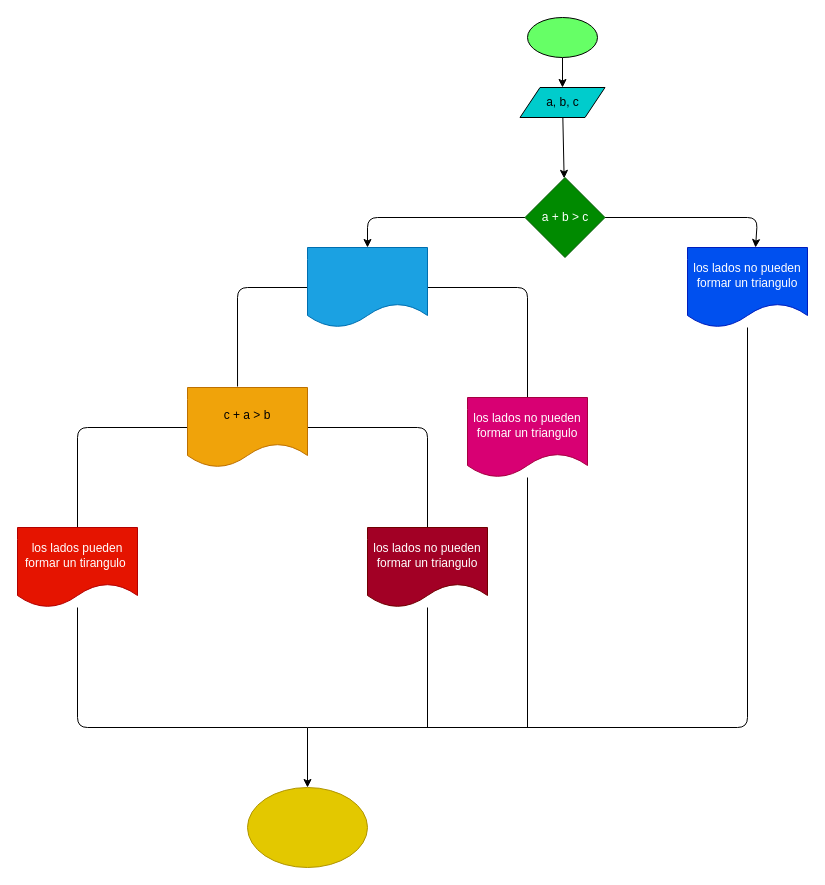
The diagram is 825 pixels wide and 885 high, and some of its shapes have lost their labels. The shapes that lost their labels are listed below. From the top down, each one's centre as x and y in pixels, then its label:
At [562,37]: "INICIO".
At [367,287]: "b +c > a".
At [307,827]: "fin".
